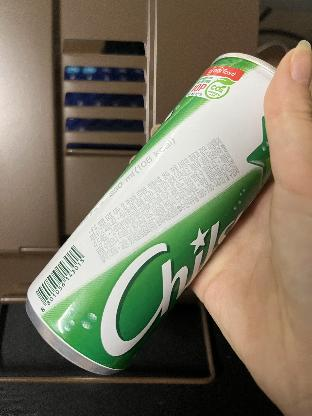Can: (25, 49, 276, 373)
